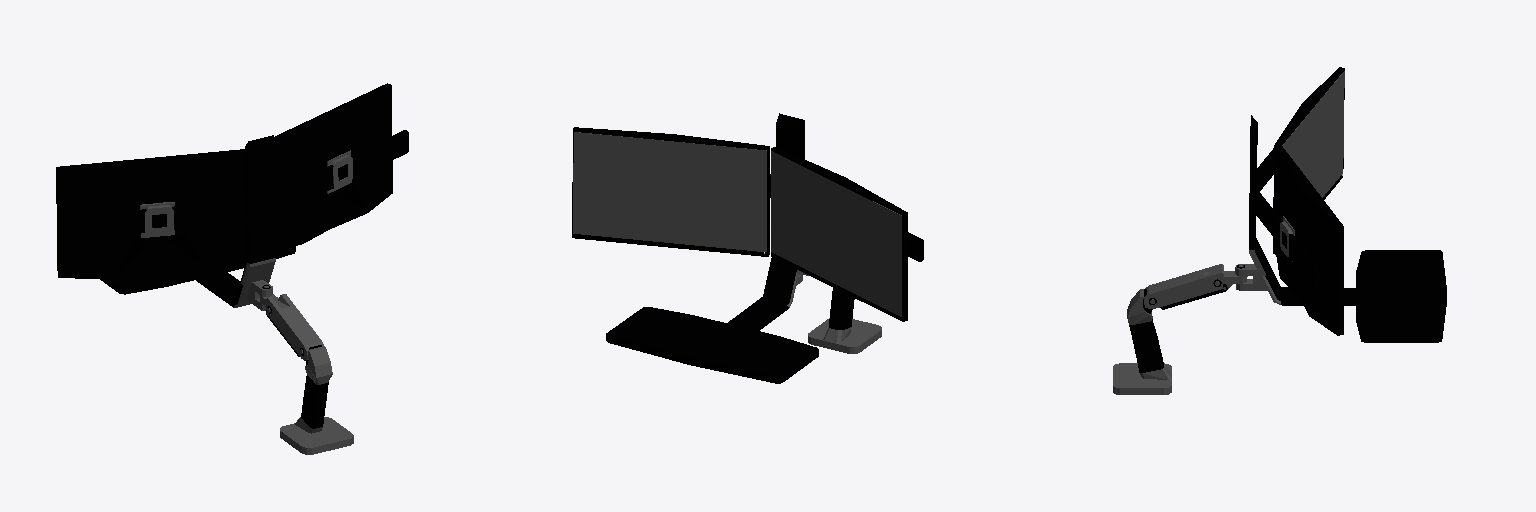
The picture shows the model from 3 angles: view 1: azimuth 30°, elevation 25°; view 2: azimuth 150°, elevation 25°; view 3: azimuth 270°, elevation 25°; orthographic projection.
Visible parts, largest first — view 1: group[number redacted], group[number redacted], group[number redacted], group[number redacted], group[number redacted], group[number redacted], group[number redacted], group[number redacted], group[number redacted]; view 2: group[number redacted], group[number redacted], group[number redacted], group[number redacted], group[number redacted]; view 3: group[number redacted], group[number redacted], group[number redacted], group[number redacted], group[number redacted], group[number redacted], group[number redacted], group[number redacted].
Boxes of the visible parts, box(x1,y1,x2,y2) form: group[number redacted]: box(56, 149, 245, 278); group[number redacted]: box(274, 83, 392, 251); group[number redacted]: box(70, 130, 408, 239); group[number redacted]: box(196, 135, 275, 307); group[number redacted]: box(280, 375, 353, 454); group[number redacted]: box(266, 294, 323, 360); group[number redacted]: box(100, 246, 295, 294); group[number redacted]: box(305, 345, 332, 384); group[number redacted]: box(145, 205, 173, 234); group[number redacted]: box(572, 127, 769, 256); group[number redacted]: box(771, 147, 907, 321); group[number redacted]: box(606, 307, 818, 383); group[number redacted]: box(728, 113, 804, 330); group[number redacted]: box(808, 288, 881, 353); group[number redacted]: box(1356, 250, 1446, 342); group[number redacted]: box(1276, 146, 1343, 335); group[number redacted]: box(1273, 67, 1344, 254); group[number redacted]: box(1113, 319, 1171, 394); group[number redacted]: box(1249, 115, 1355, 305); group[number redacted]: box(1255, 148, 1318, 289); group[number redacted]: box(1144, 264, 1223, 308); group[number redacted]: box(1127, 289, 1152, 324).
Bounding box in the file's own units: 3.62 × 2.66 × 3.08.